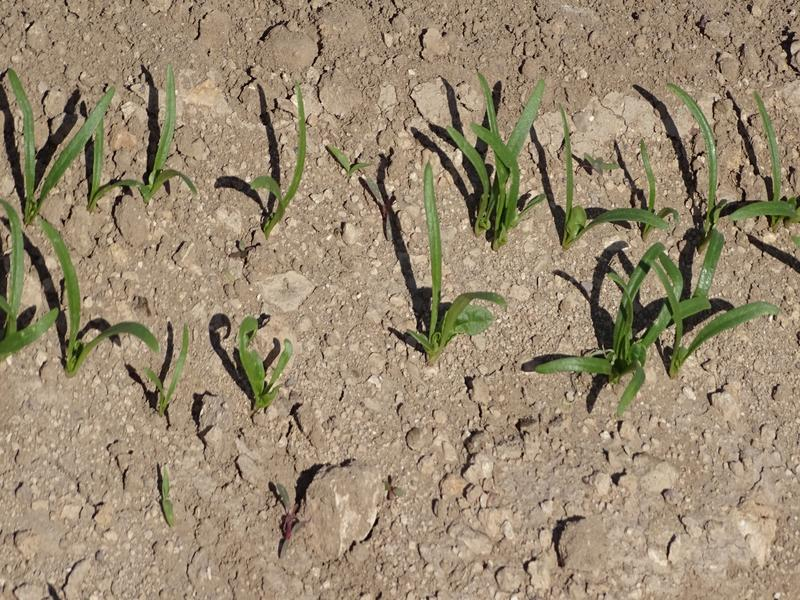Espinaca: (443, 102, 797, 234), (1, 76, 139, 372), (555, 238, 780, 400), (412, 168, 490, 360), (250, 87, 315, 223), (147, 72, 197, 194), (236, 309, 297, 405), (142, 327, 193, 405)
